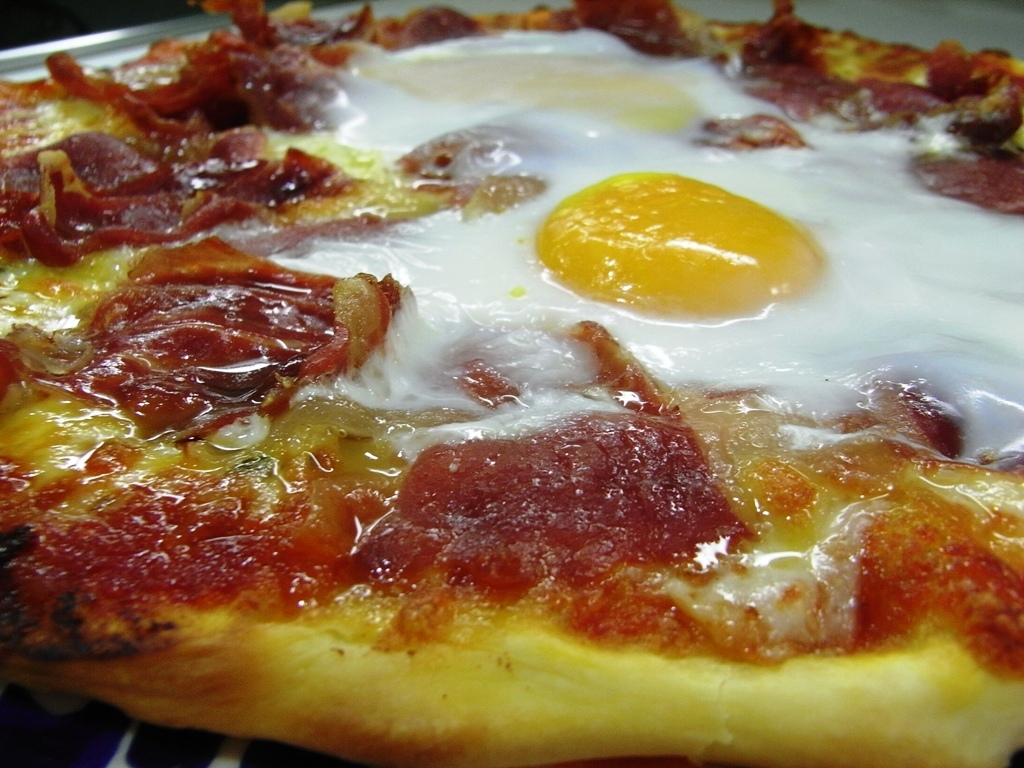pizza: (0, 126, 1024, 726)
